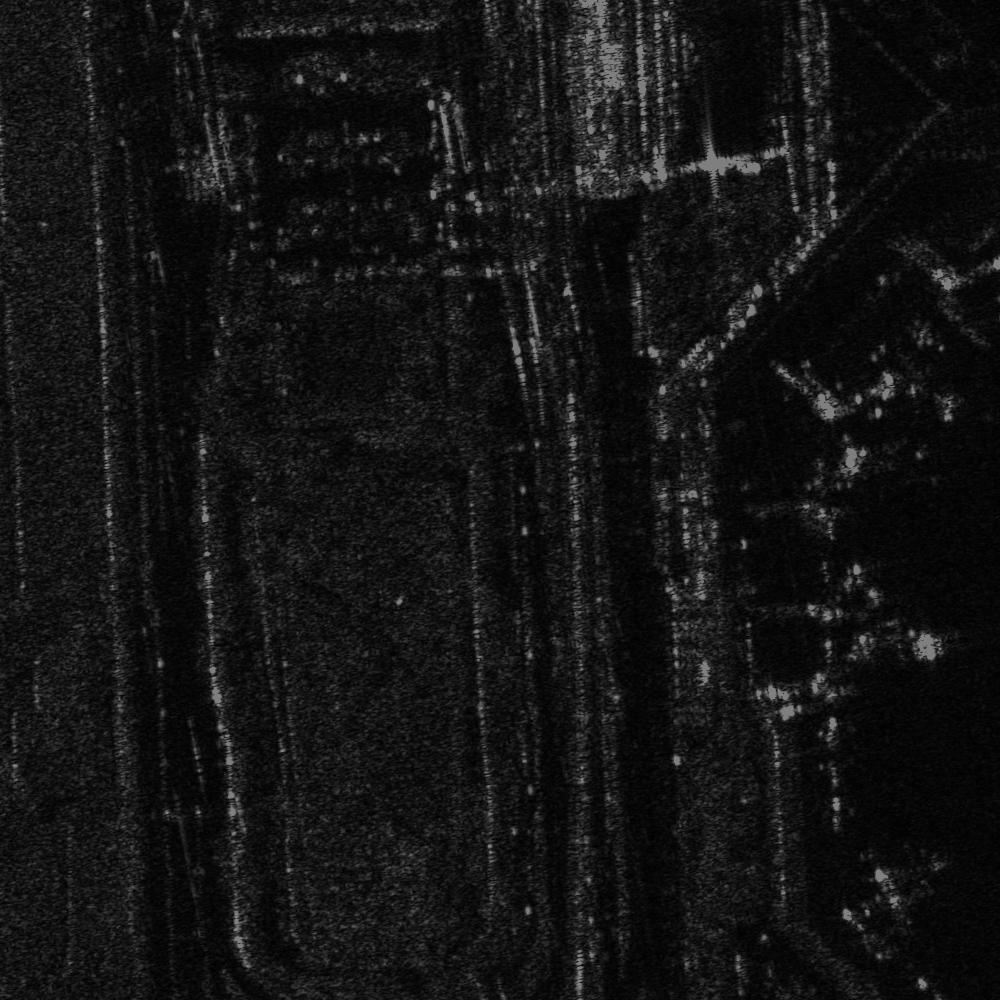A220: (851, 839, 955, 930)
A320/321: (824, 583, 952, 670), (887, 363, 969, 428)
